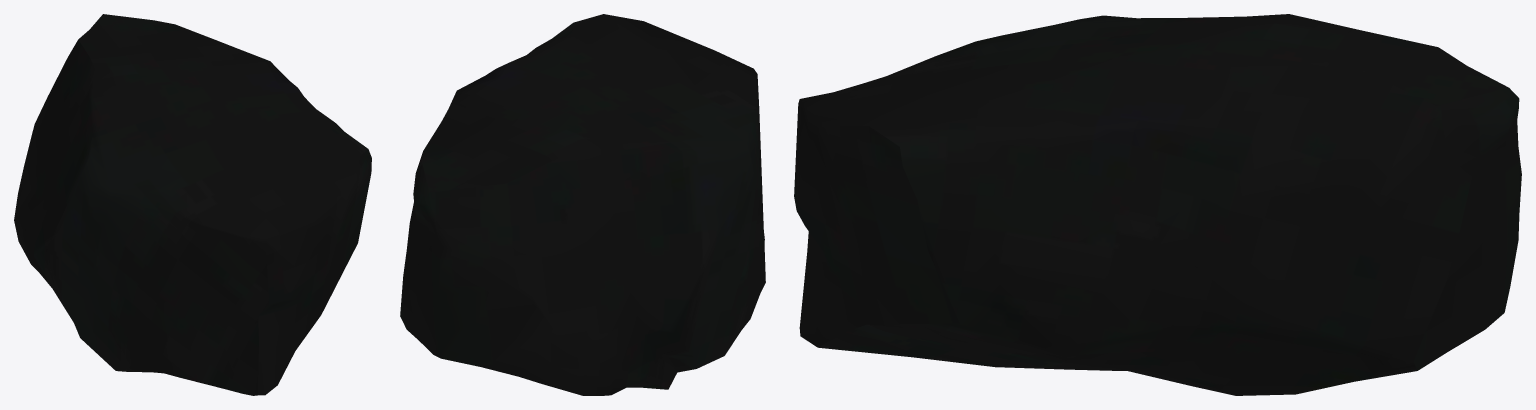
The picture shows the model from 3 angles, left to right: view 1: azimuth 30°, elevation 25°; view 2: azimuth 150°, elevation 25°; view 3: azimuth 270°, elevation 25°; orthographic projection. The views are drawn at different scales.
Parts seen in each view (by area): view 1: SM_LimestoneSm_02_Moss_LOD0; view 2: SM_LimestoneSm_02_Moss_LOD0; view 3: SM_LimestoneSm_02_Moss_LOD0.
Part boxes in pixels (box(x1,y1,x2,y2)): SM_LimestoneSm_02_Moss_LOD0: box(14, 14, 371, 395); SM_LimestoneSm_02_Moss_LOD0: box(400, 14, 765, 395); SM_LimestoneSm_02_Moss_LOD0: box(794, 14, 1521, 395).
Bounding box in the file's own units: 0.3765 × 0.3665 × 0.664.
Materials: 1 (1 with a texture image).
